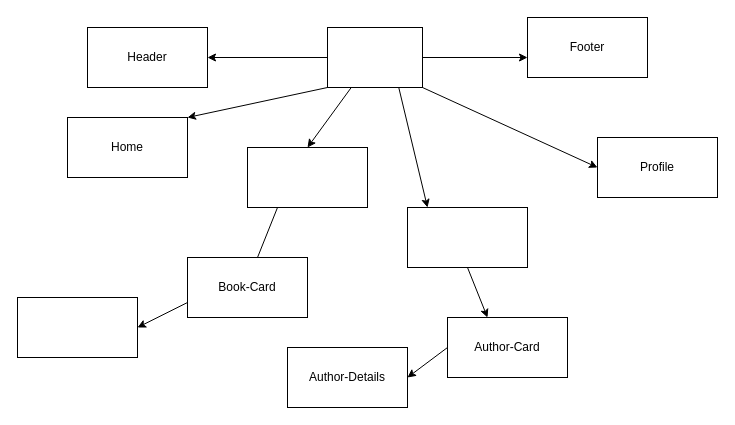
The diagram is 735 pixels wide and 425 high, and some of its shapes have lost their labels. The centre of each missing label's shape, as x and y in pixels:
App.js: point 374,57
Authors-List: point 467,237
Book-Details: point 77,327
Books-List: point 307,177
